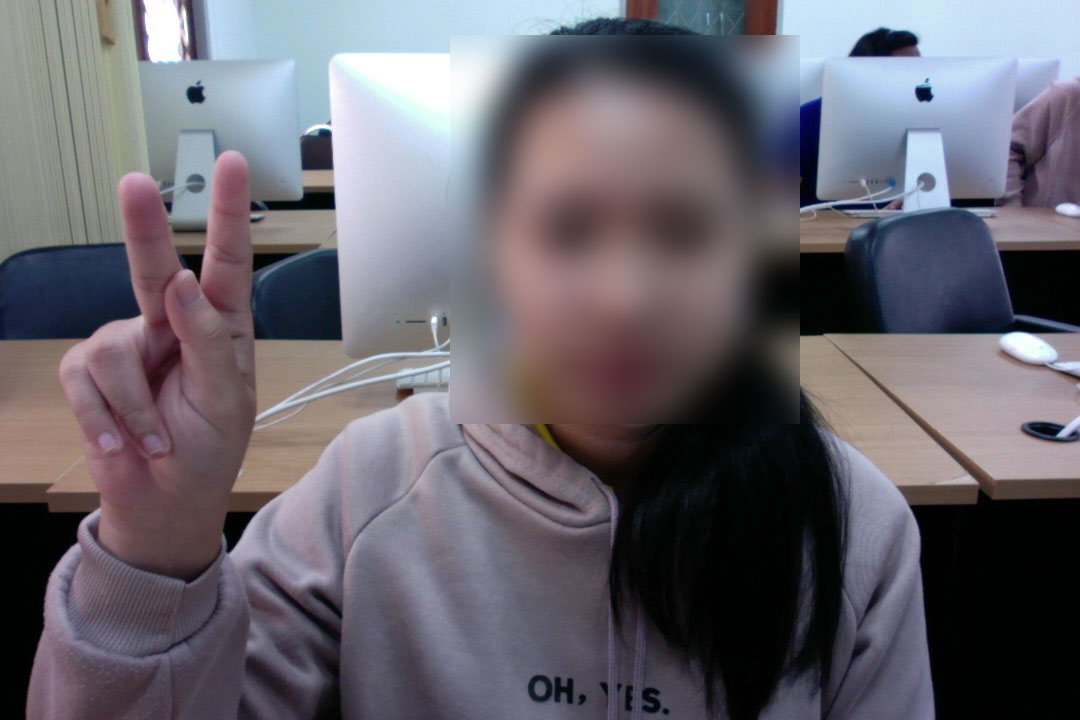ko: (50, 142, 268, 553)
